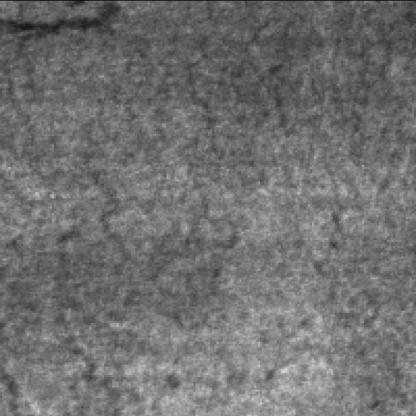crazing: (81, 13, 300, 324)
